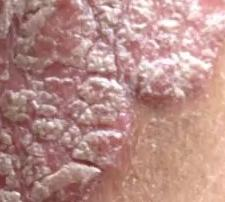plaque psoriasis: (0, 0, 129, 202), (59, 0, 225, 114)
